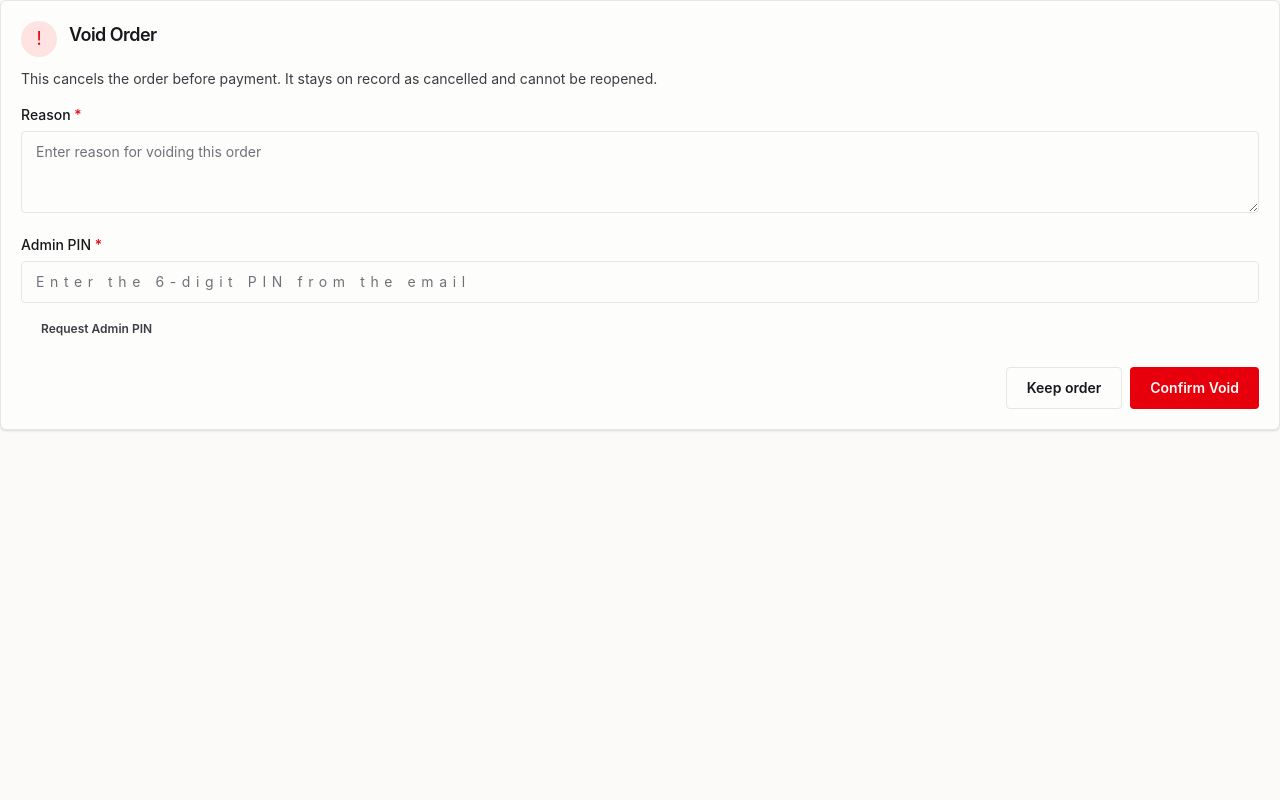
Test: VoidDialog › Request Admin PIN › will not request a PIN before a reason is given
The width and height of the screenshot is (1280, 800).
Click the button with test id "void-request-pin-btn".
click(97, 329)  # box [21,311,172,347]
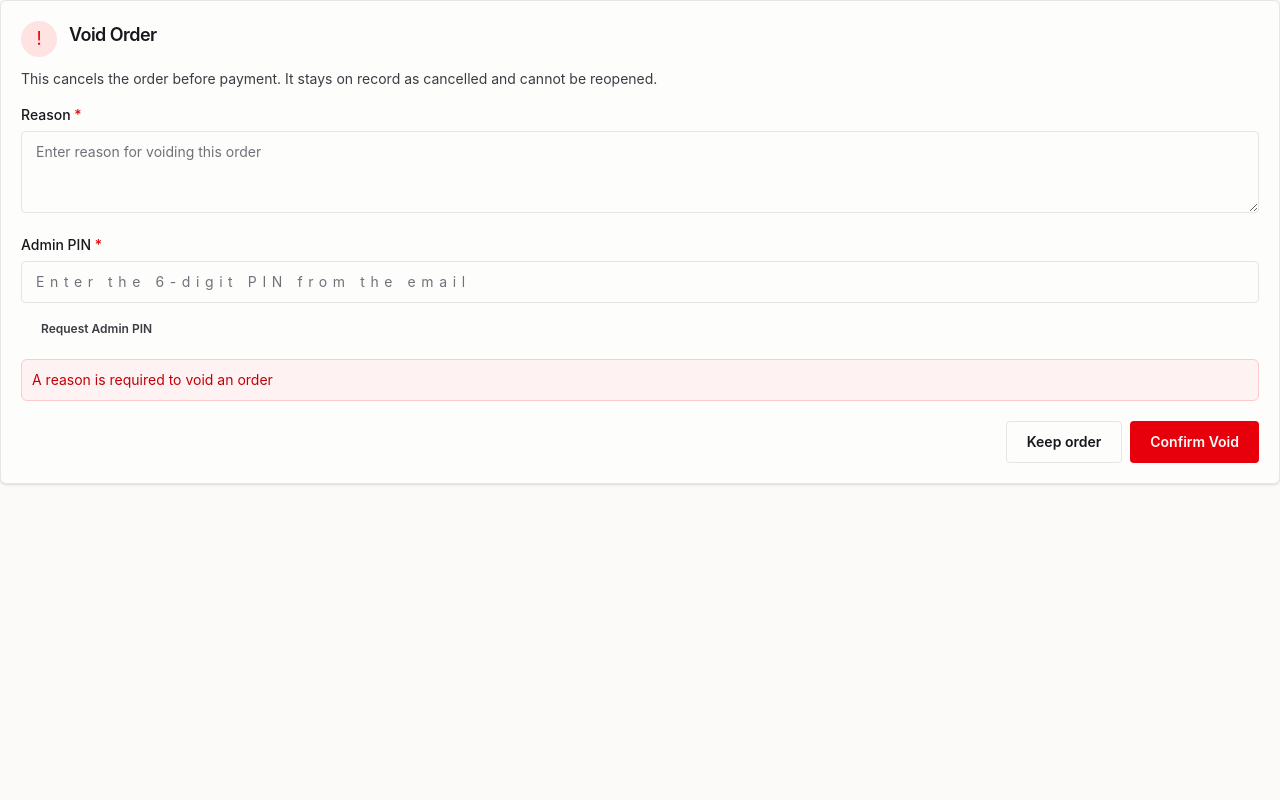
Result: the message "A reason is required to void an order" is shown at [21,359,1259,401]
